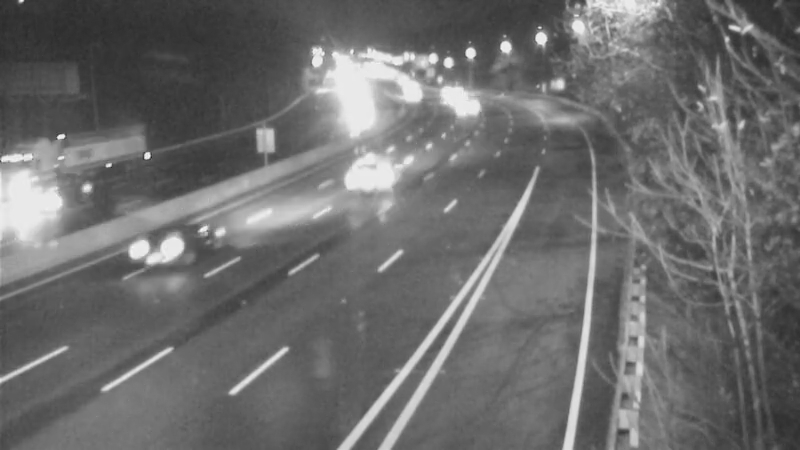vehicle: (350, 132, 430, 212), (118, 210, 198, 290), (1, 149, 70, 229), (437, 84, 487, 134)
